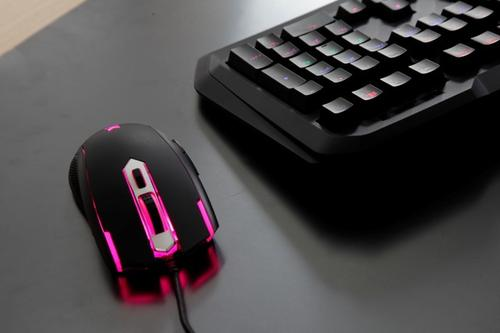keyboard: (197, 3, 497, 209)
mouse: (66, 122, 226, 310)
